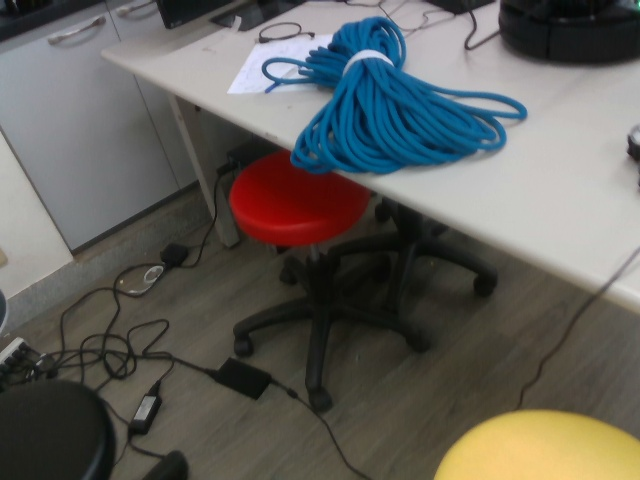rope: (262, 16, 532, 178)
